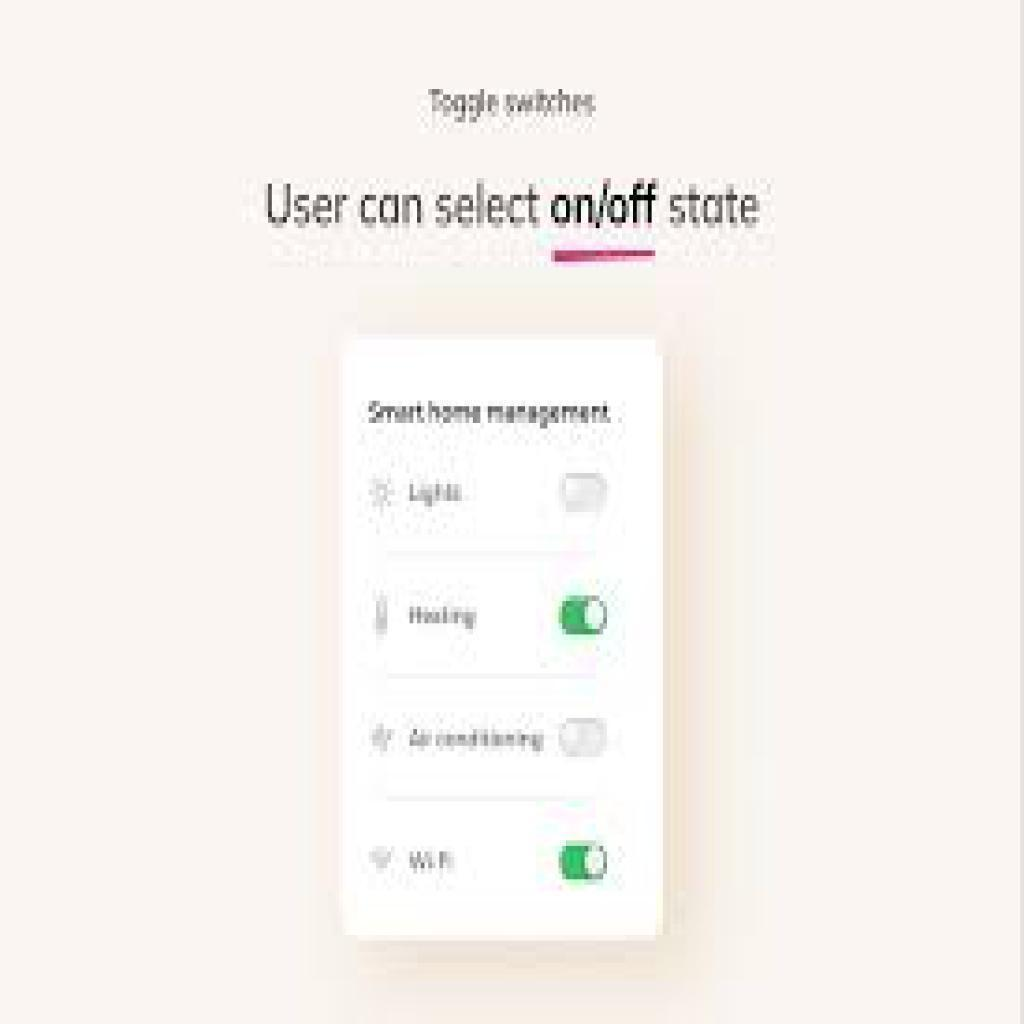icon: (367, 470, 397, 520), (366, 719, 400, 755), (366, 841, 398, 877), (370, 594, 395, 640)
label: (409, 721, 547, 758), (404, 601, 485, 634), (404, 477, 475, 511), (407, 847, 457, 877)
switch: (558, 717, 614, 759), (558, 840, 609, 886), (556, 594, 611, 636), (559, 470, 609, 515)
